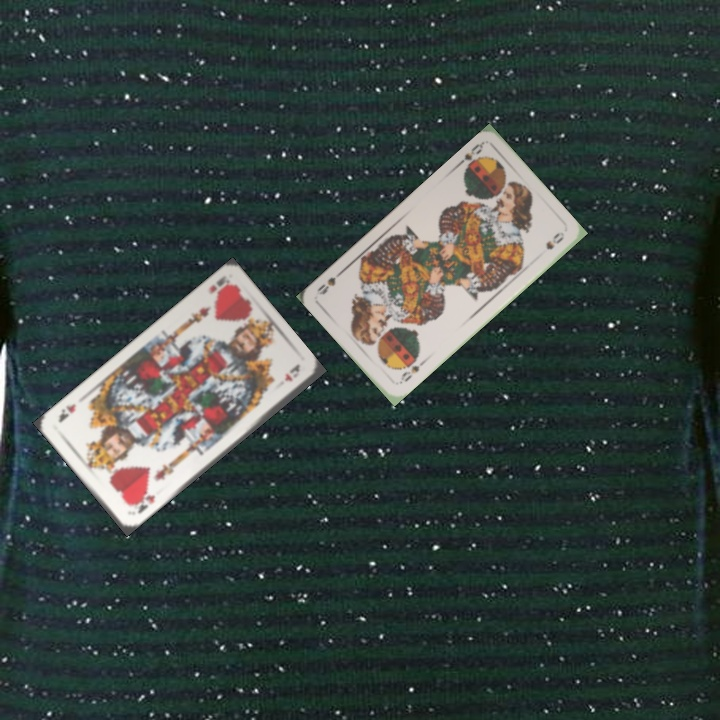HK: (126, 488, 158, 516), (205, 272, 234, 299)
SO: (452, 138, 486, 176), (395, 355, 428, 387)
